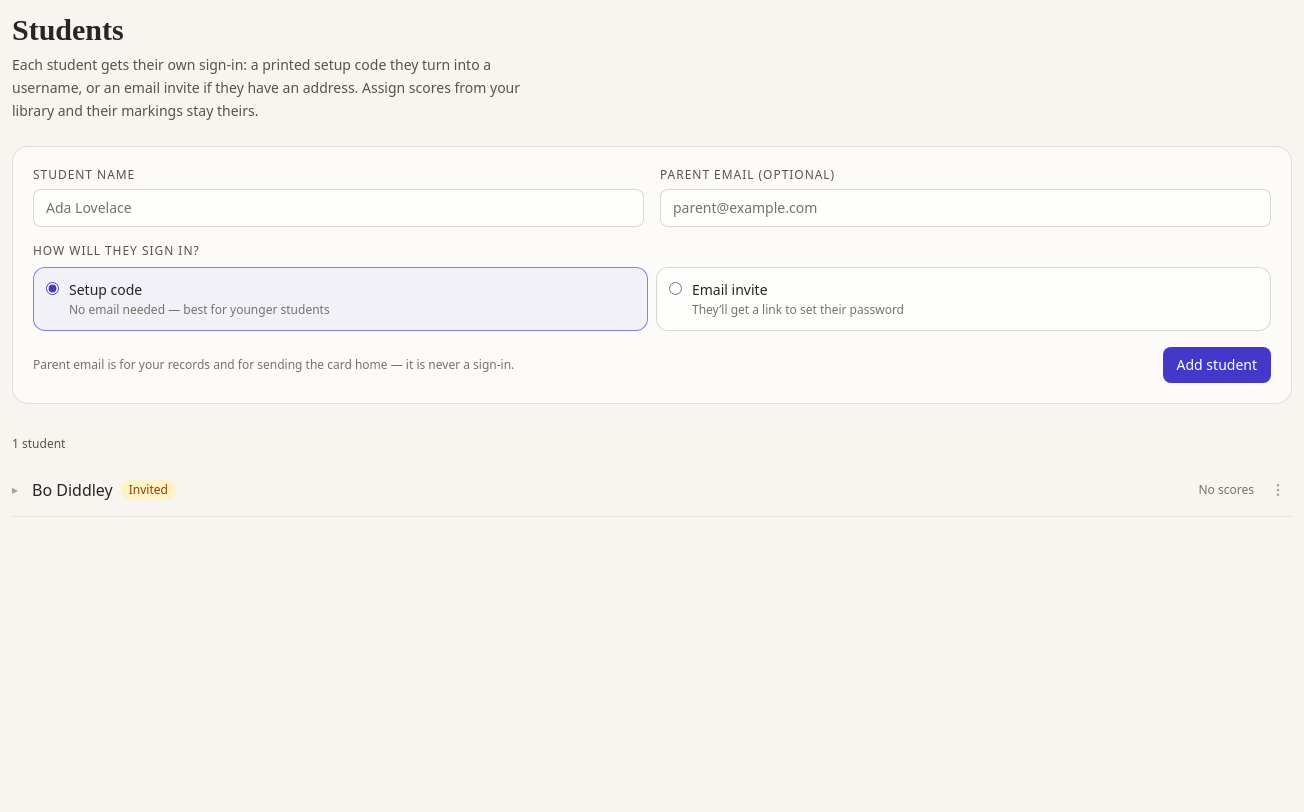
it: RosterPage › names the reset after what it does to this particular student
Click the button named "Student actions" at (1278, 490), box [1264,476,1292,504]
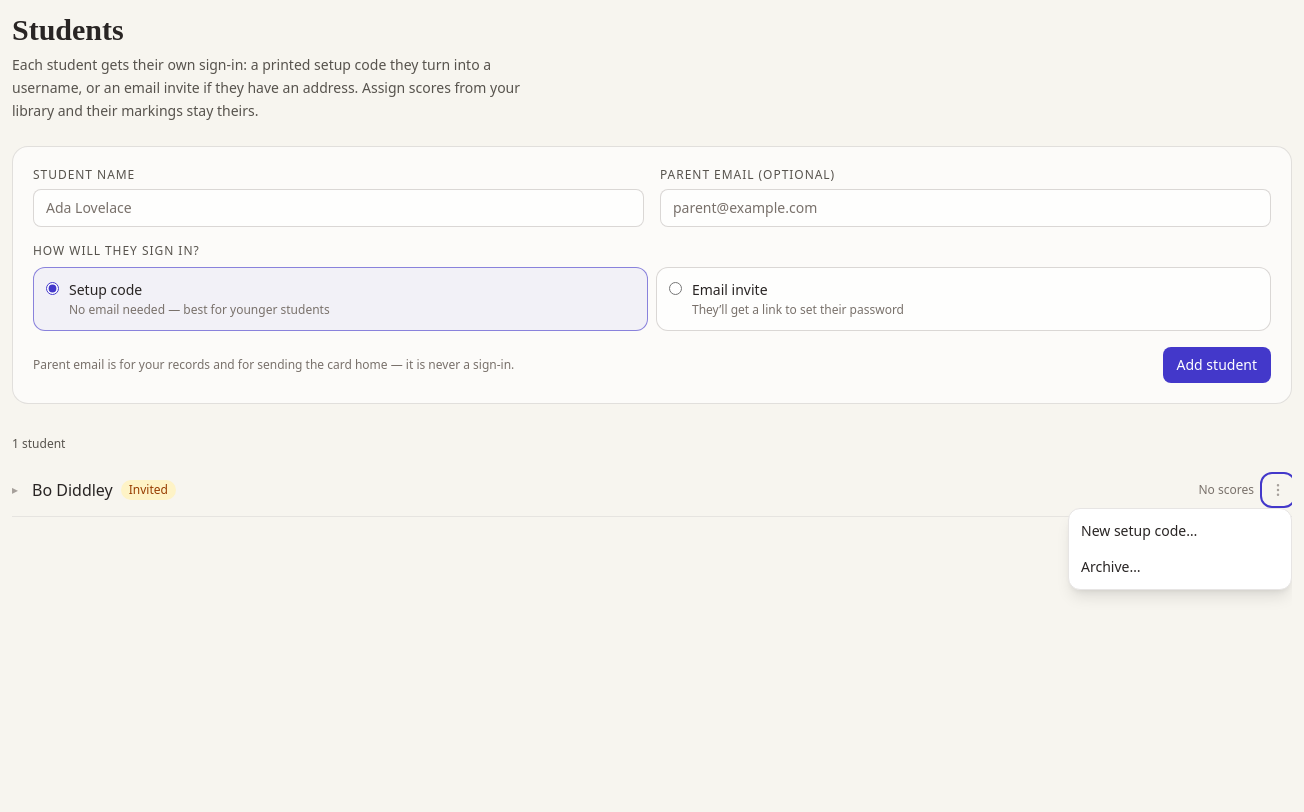
expect the menu item "New setup code…" is shown: met, box [1069,513,1291,549]
